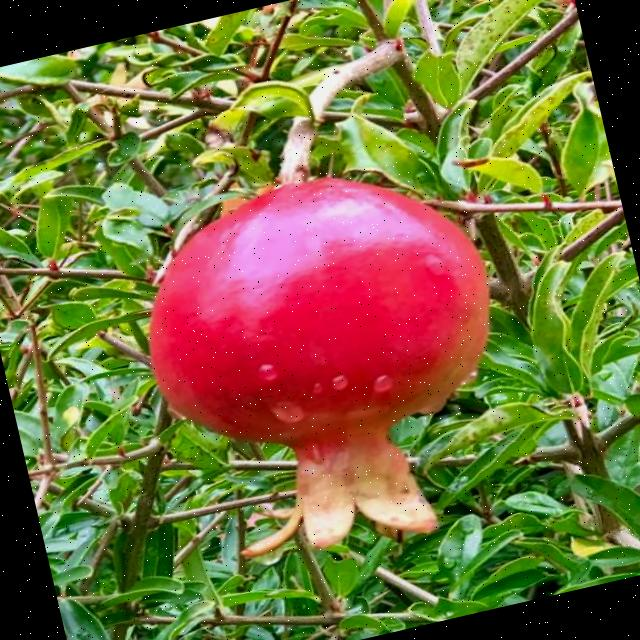Ripe: (104, 136, 544, 599)
